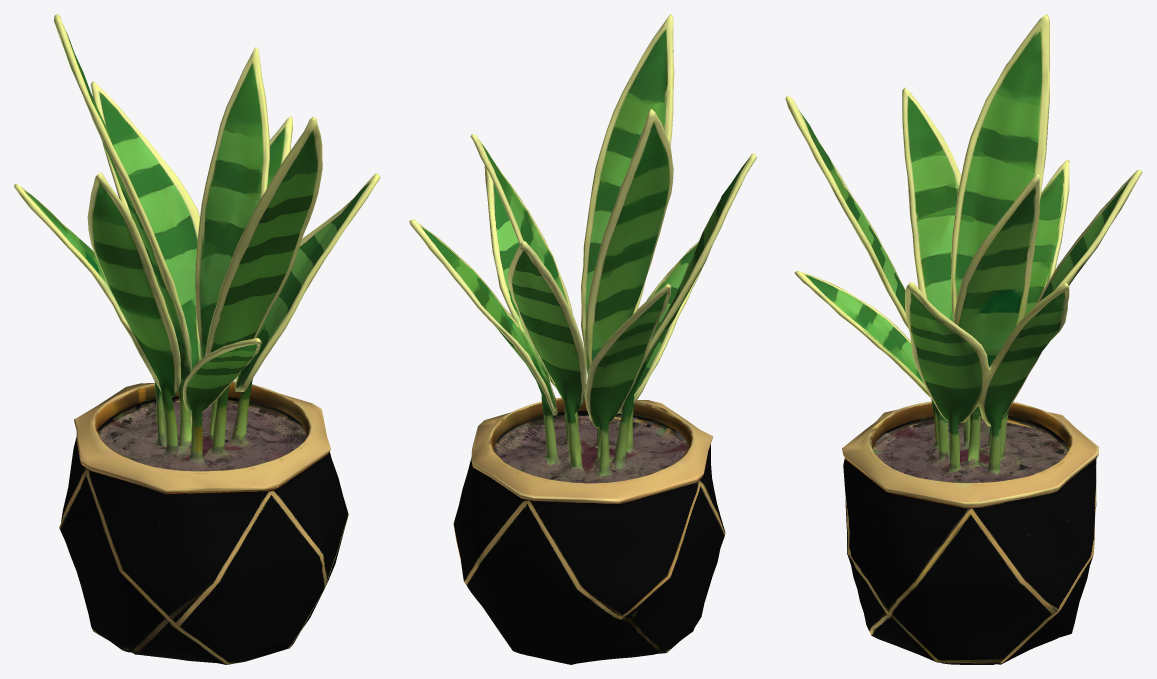
Rendered from Meshy_AI_Geometric_Snake_Plant_0509134547_texture.fbx.
3 views of the same model, side by side, from view 1: azimuth 30°, elevation 25°; view 2: azimuth 150°, elevation 25°; view 3: azimuth 270°, elevation 25° (orthographic). The views are drawn at different scales.
Visible parts, largest first — view 1: Mesh_0; view 2: Mesh_0; view 3: Mesh_0.
Part boxes in pixels (bbox=[...]): Mesh_0: bbox=[14, 14, 380, 664]; Mesh_0: bbox=[409, 14, 756, 664]; Mesh_0: bbox=[785, 14, 1142, 664].
Size of the model in its own units: 93.54 by 191 by 109.
1 material, 1 textured.
